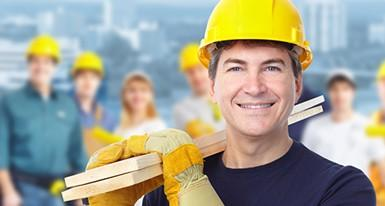helmet: (191, 1, 312, 71), (26, 35, 63, 63), (71, 52, 105, 78), (181, 45, 210, 74)
